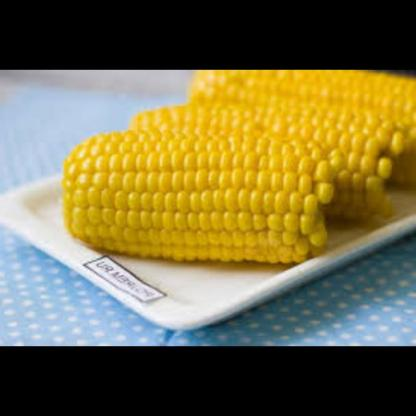corn: (60, 126, 348, 262), (113, 95, 416, 221), (186, 68, 416, 187)
